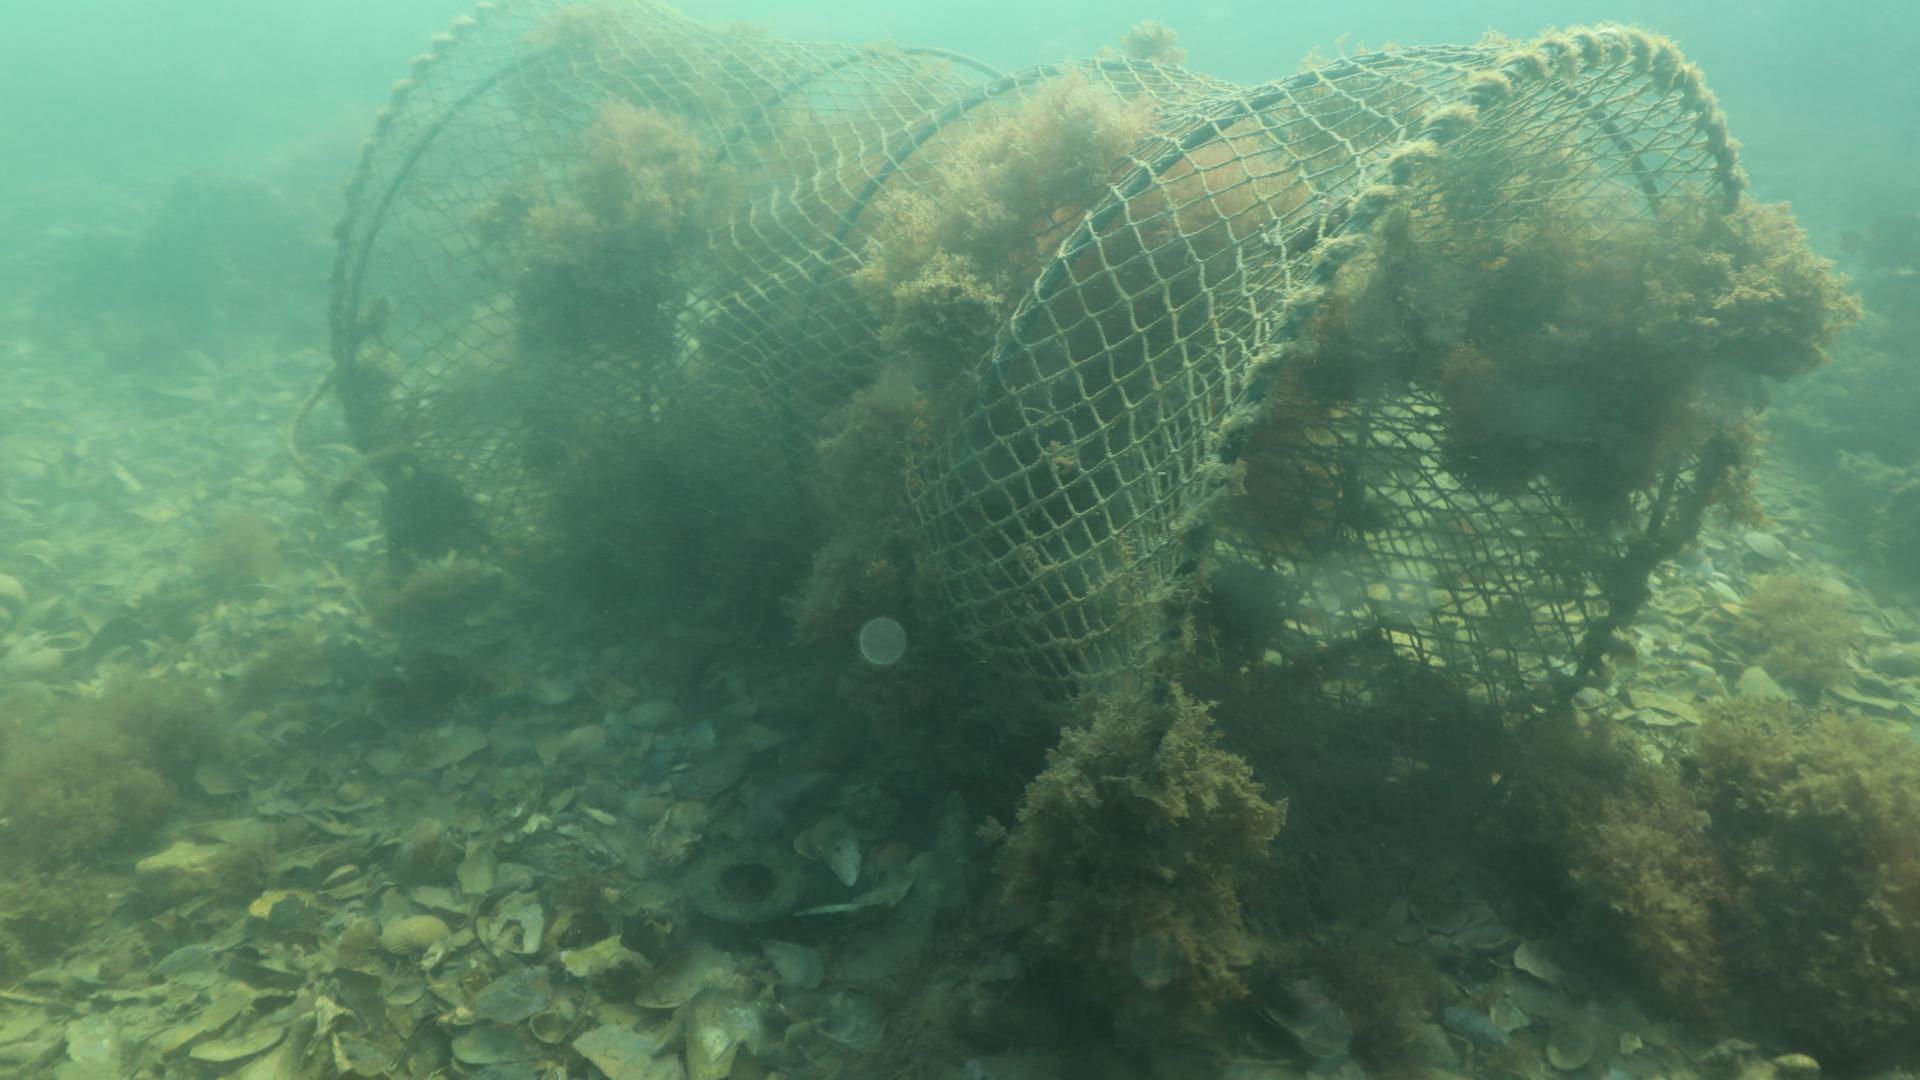rope: (276, 360, 352, 501)
spring fish trap: (322, 0, 1758, 965)
